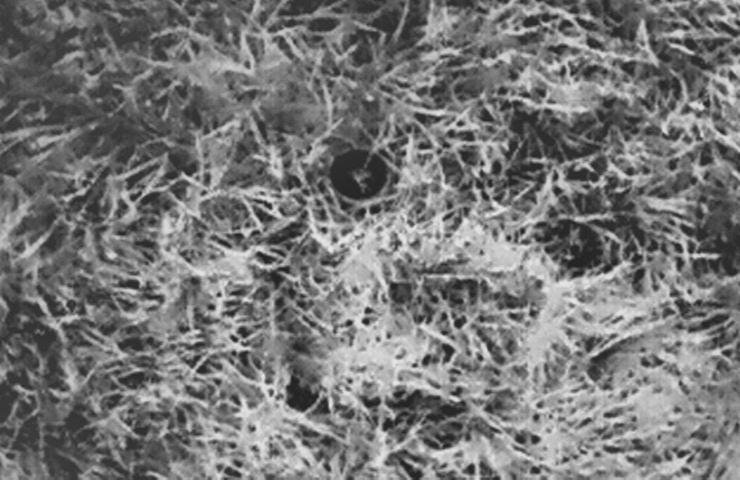landmines: (322, 141, 399, 209)
